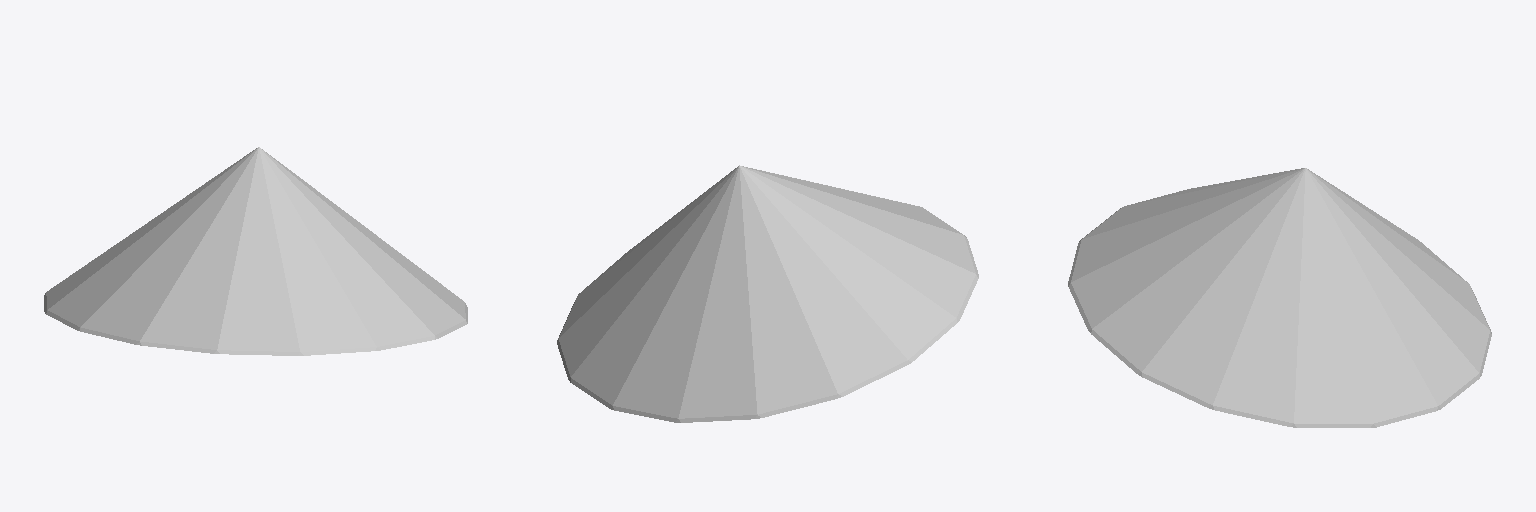
Rendered from ninjahat_basic.sgm.obj.
3 views of the same model, side by side, from view 1: azimuth 30°, elevation 25°; view 2: azimuth 150°, elevation 25°; view 3: azimuth 270°, elevation 25° (orthographic).
Bounding box in the file's own units: 0.7142 × 0.3555 × 0.7104.